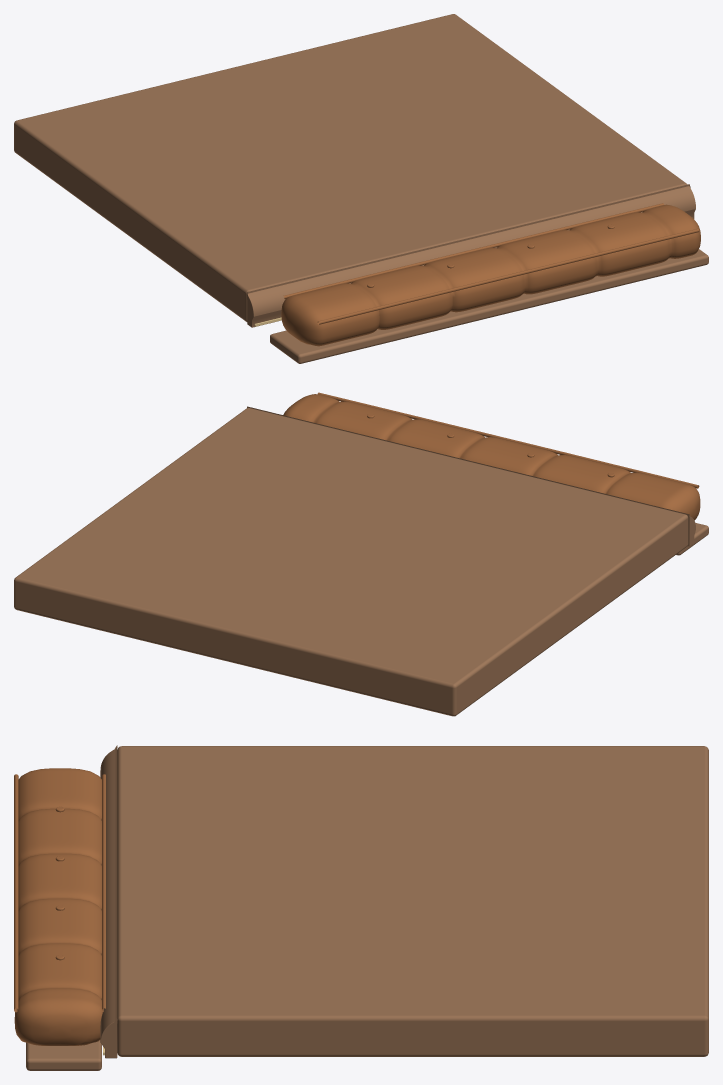
The model's file is desk_wing.glb.
3 renders of one model, top to bottom at view 1: azimuth 30°, elevation 25°; view 2: azimuth 150°, elevation 25°; view 3: azimuth 270°, elevation 25°, orthographic. The views are drawn at different scales.
Visible parts, largest first — view 1: Top, Armrest, Edge, ArmRail, Piping, Piping.001; view 2: Top, Armrest, Piping, Edge; view 3: Top, Armrest, Edge, ArmRail, Piping, Piping.001.
Part boxes in pixels (x1,y1,x2,y2): Top: (14, 14, 687, 321); Armrest: (281, 204, 700, 346); Edge: (247, 184, 695, 327); ArmRail: (270, 249, 708, 363); Piping: (317, 229, 699, 324); Piping.001: (283, 203, 664, 298); Top: (14, 408, 688, 716); Armrest: (283, 394, 700, 520); Piping: (317, 392, 699, 488); Edge: (247, 406, 695, 546); Top: (117, 746, 708, 1056); Armrest: (14, 768, 102, 1045); Edge: (100, 745, 117, 1058); ArmRail: (26, 1040, 101, 1070); Piping: (14, 774, 18, 1012); Piping.001: (102, 774, 105, 1011).
Bounding box in the file's own units: 0.85 × 0.094 × 0.916.
